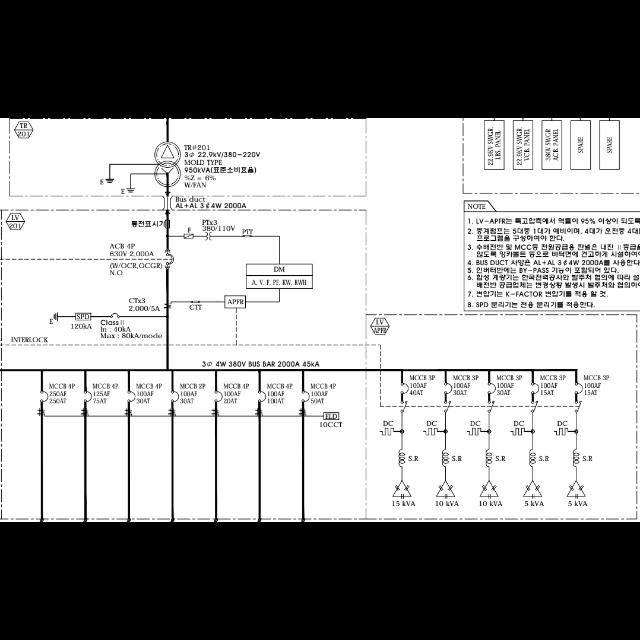ACB: (166, 253, 174, 265)
CT: (164, 301, 172, 309)
GND: (126, 188, 136, 194), (106, 178, 114, 184), (54, 312, 58, 322)
MCCB: (84, 390, 92, 402), (171, 391, 179, 403), (41, 392, 49, 402), (127, 392, 135, 402), (215, 392, 223, 402), (258, 392, 266, 402), (302, 392, 310, 402), (400, 384, 408, 394), (444, 384, 452, 394), (488, 384, 496, 394), (575, 384, 583, 394), (110, 312, 120, 318), (532, 384, 538, 394)
PF2: (184, 234, 192, 238)
PT: (204, 231, 212, 241)
SC: (392, 481, 412, 499), (436, 481, 456, 499), (567, 480, 585, 500), (479, 481, 498, 499), (524, 481, 542, 499)
SR: (572, 448, 580, 468), (398, 449, 406, 467), (442, 449, 450, 467), (486, 448, 492, 468), (530, 448, 536, 468)
TR: (154, 142, 182, 186)
ZCT: (210, 408, 220, 416), (37, 408, 45, 416), (81, 408, 89, 416), (124, 409, 132, 417), (168, 408, 176, 416), (298, 408, 306, 416), (255, 408, 262, 416)
